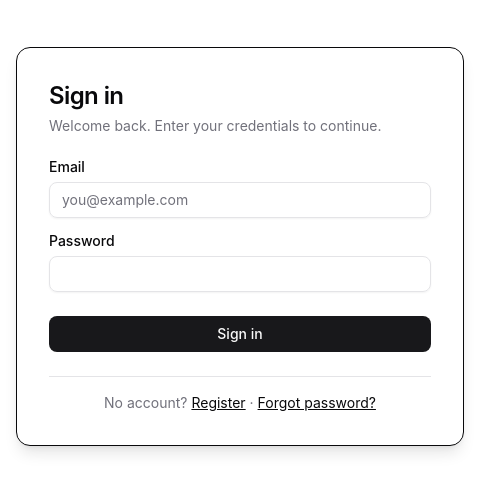
Test case: LoginPage › 401 surfaces generic non-enumerating error
The width and height of the screenshot is (481, 503).
Type "alice@example.com" into the field labelled "Email" at (240, 200), box [49, 182, 431, 218]
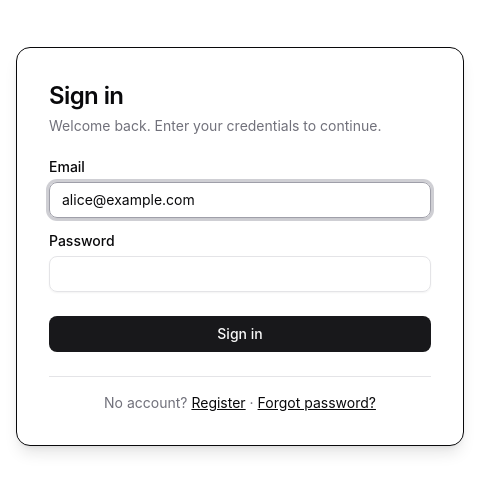
Type "wrong" into the password field labelled "Password" at (240, 274), box [49, 256, 431, 292]
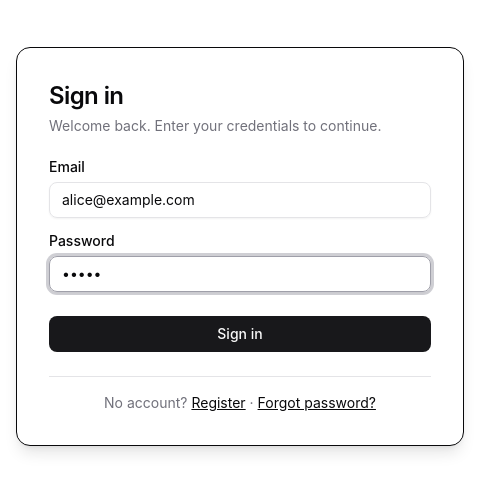
Click the button "Sign in" at (240, 334), box [49, 316, 431, 352]
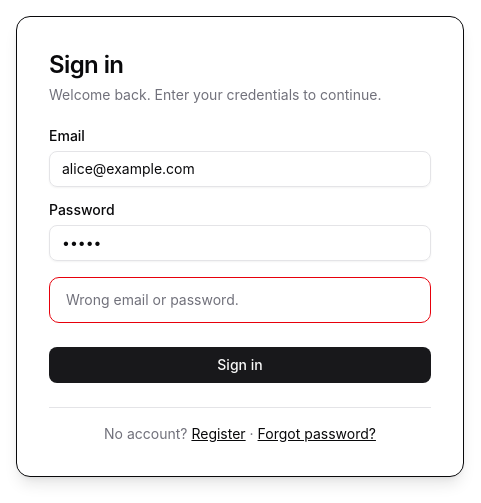
Expected: the text "Wrong email or password." is shown, [66, 290, 239, 308]
